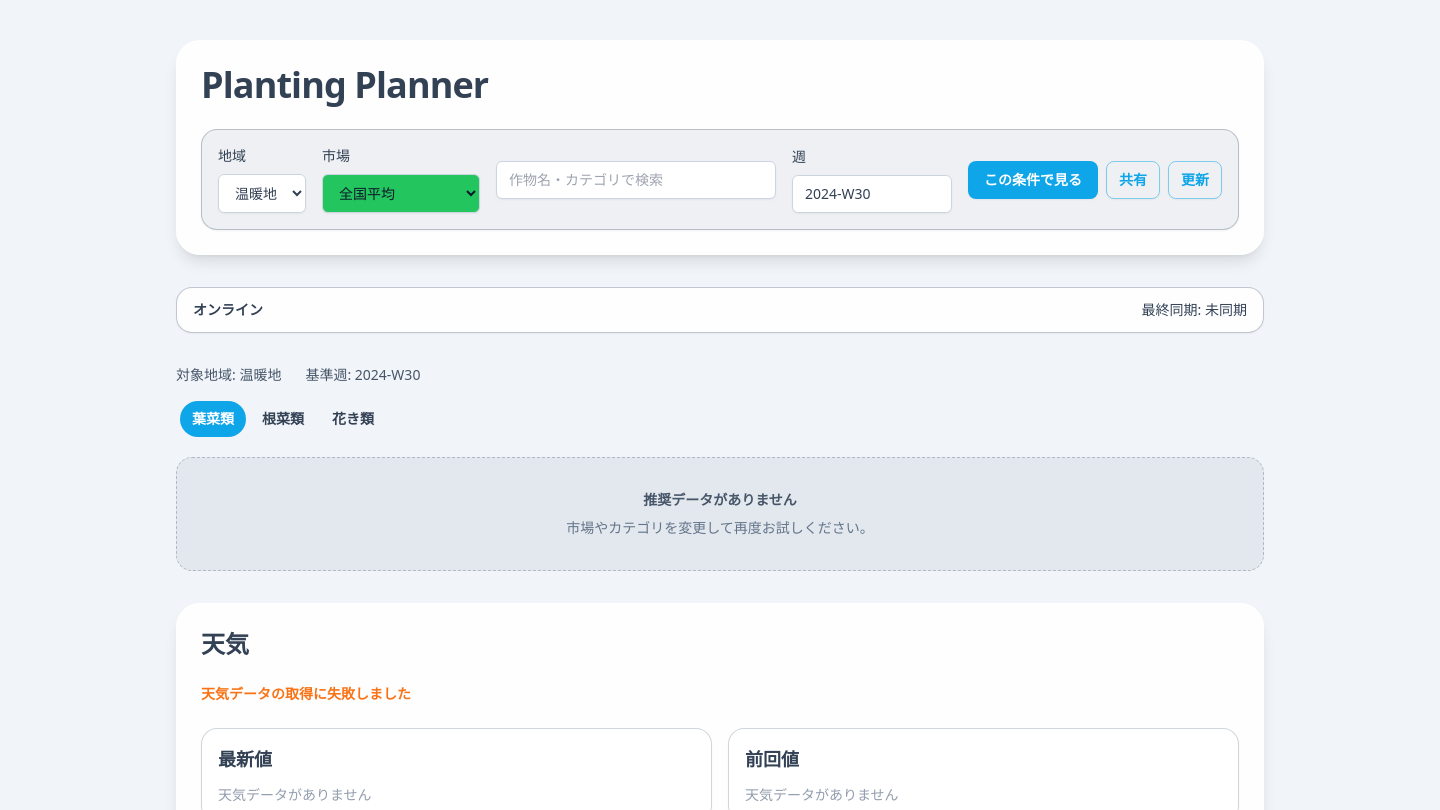
Test: App share › Web Share API 非対応ブラウザではクリップボードコピーにフォールバックする
Click the button "共有".
click(1133, 180)  # box top-left (1106, 160), bottom-right (1160, 198)
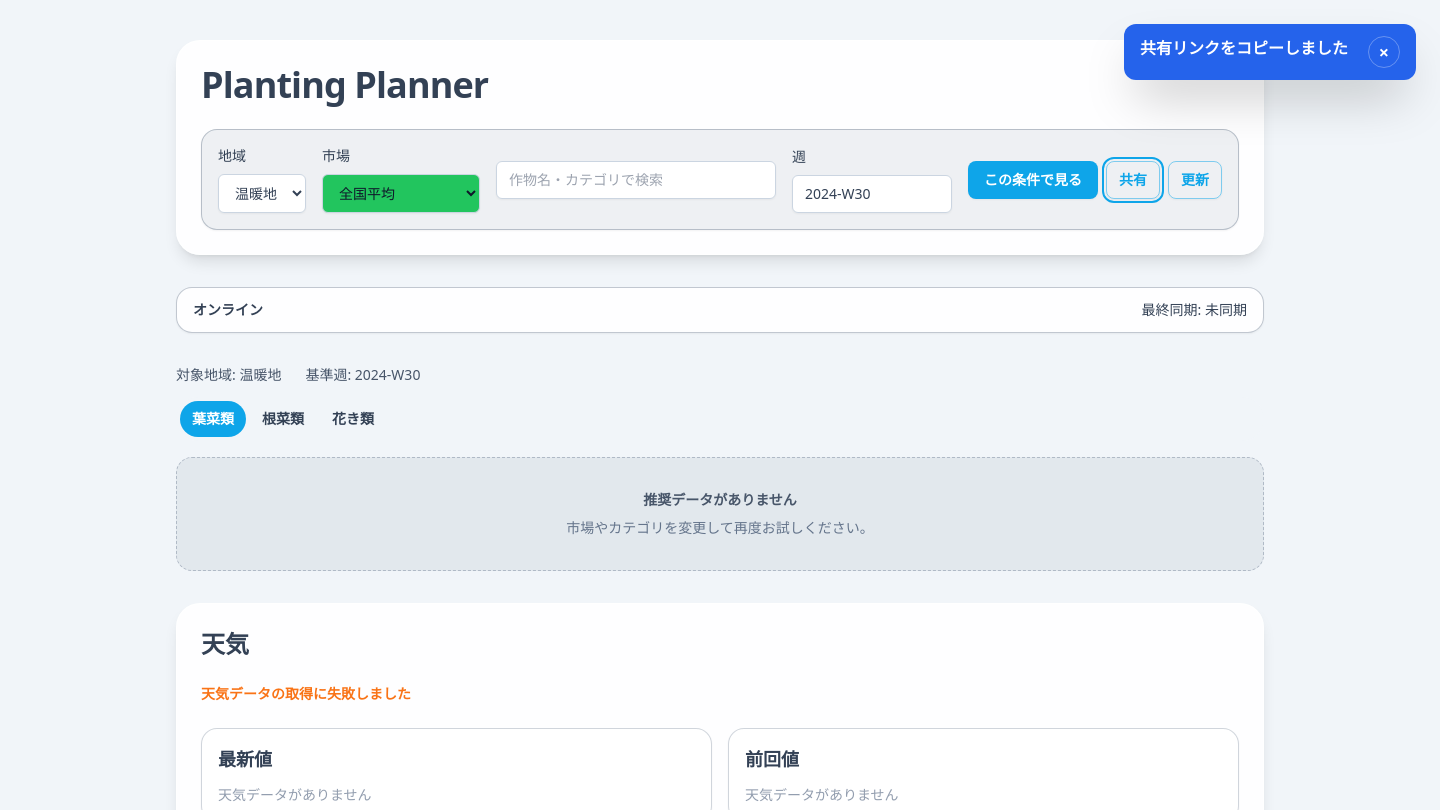
Check: the text "共有リンクをコピーしました" is shown, box top-left (1140, 36), bottom-right (1348, 60)
